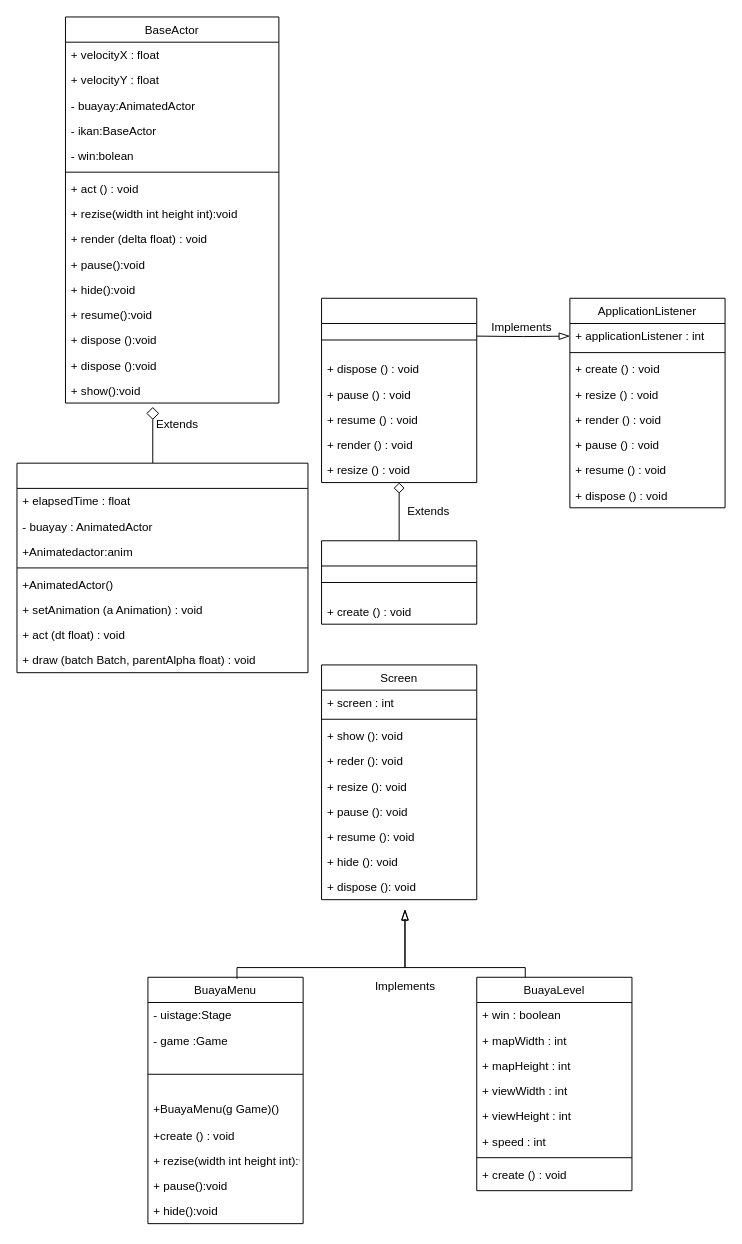
This 742x1244 diagram has some shape labels left out. Each missing label, with the box of its shape:
AnimetedActor: (16, 462, 308, 673)
BuayaGame: (321, 540, 477, 624)
Game: (321, 297, 477, 483)
